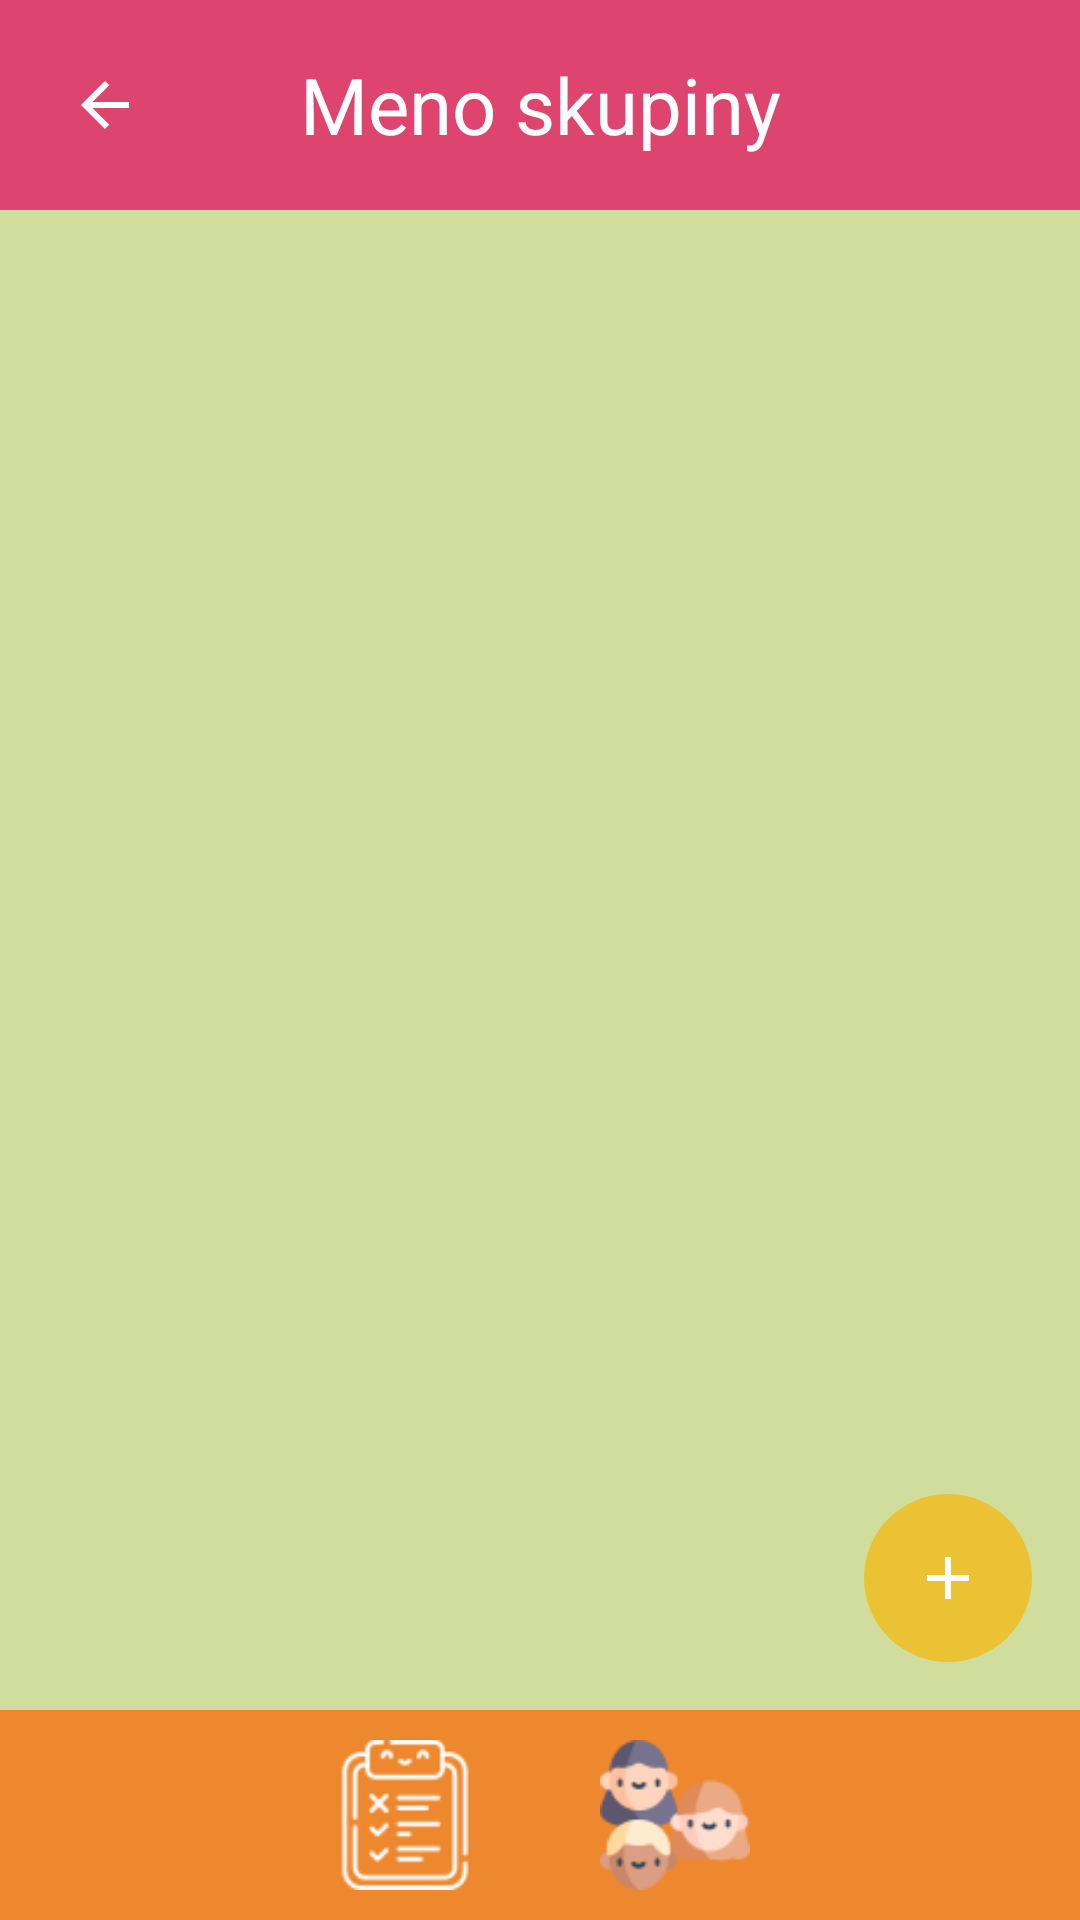

Where to tap for icons on this 1080*1920 app screen, as (x,y):
úlohy: (405,1815)
študenti: (675,1815)
